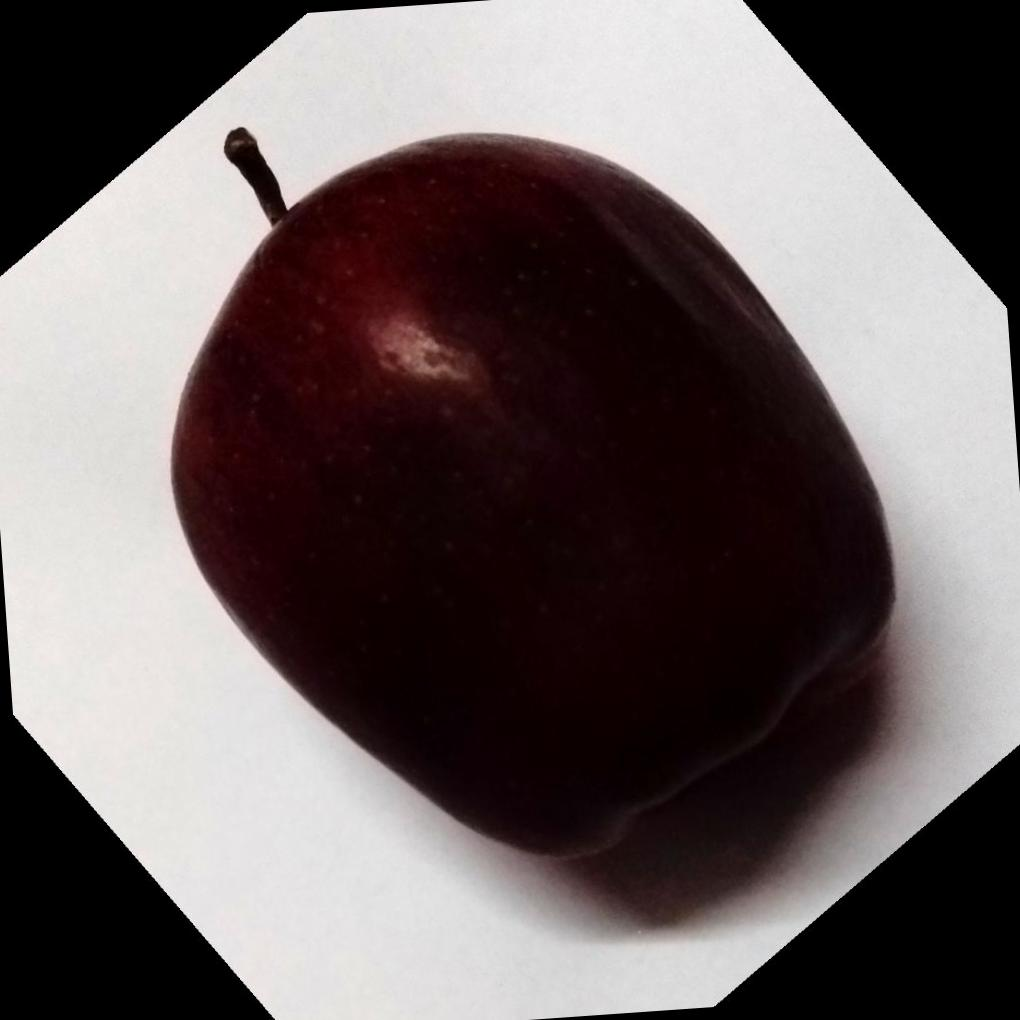FreshOrange: (169, 134, 897, 863)
